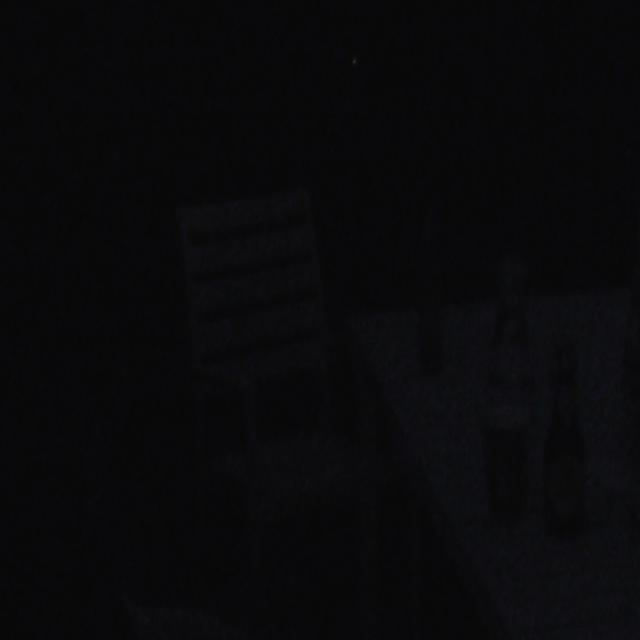Bottle: (473, 257, 538, 538), (543, 337, 596, 537), (413, 224, 448, 383)
Table: (359, 219, 640, 640)
chair: (170, 183, 379, 589)
